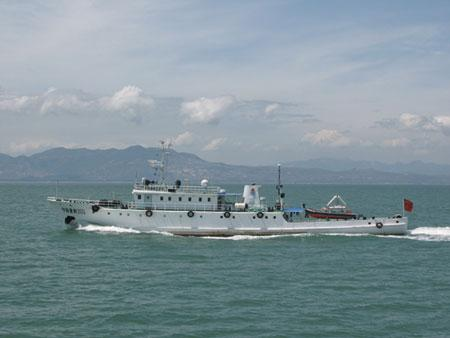warship: (47, 136, 417, 237)
